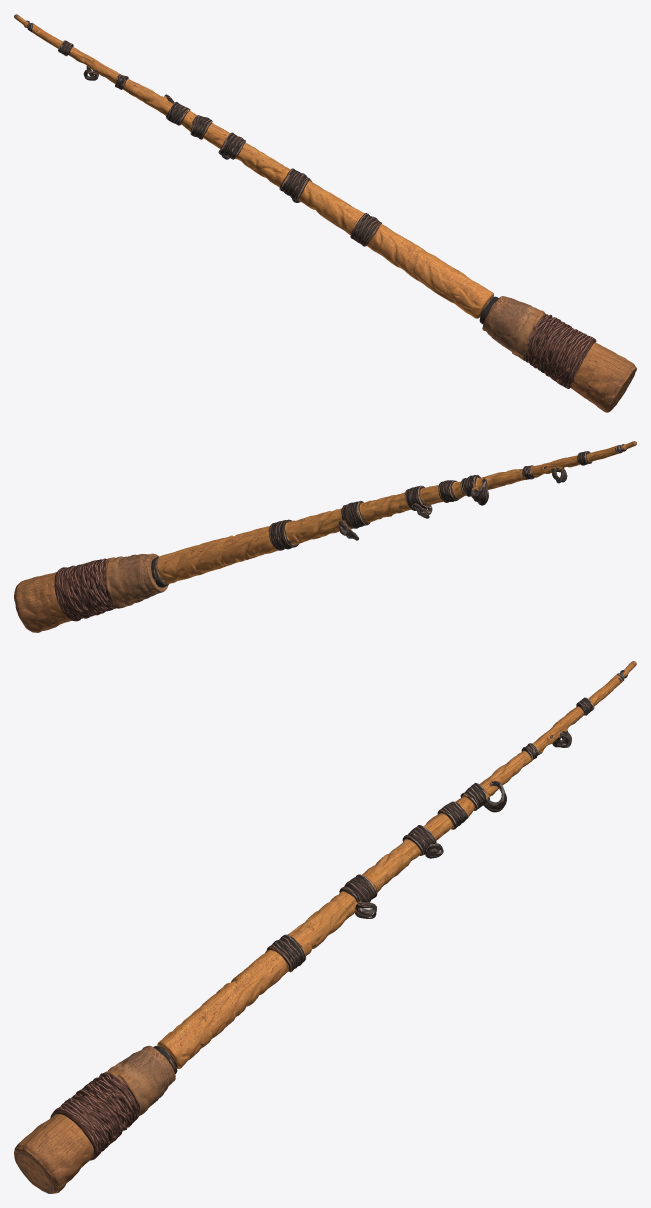
File: fishing-pole-model.glb
3 renders of one model, top to bottom at view 1: azimuth 30°, elevation 25°; view 2: azimuth 210°, elevation 25°; view 3: azimuth 270°, elevation 25°, orthographic. The views are drawn at different scales.
Parts seen in each view (by area): view 1: tripo_node_f8e94005-7d2e-4cf0-a1f3-ca3a4425e270; view 2: tripo_node_f8e94005-7d2e-4cf0-a1f3-ca3a4425e270; view 3: tripo_node_f8e94005-7d2e-4cf0-a1f3-ca3a4425e270.
Boxes of the visible parts, box(x1,y1,x2,y2) form: tripo_node_f8e94005-7d2e-4cf0-a1f3-ca3a4425e270: box(14, 14, 636, 412); tripo_node_f8e94005-7d2e-4cf0-a1f3-ca3a4425e270: box(14, 441, 636, 632); tripo_node_f8e94005-7d2e-4cf0-a1f3-ca3a4425e270: box(14, 661, 636, 1193).
Size of the model in its own units: 0.7906 by 0.5989 by 1.
1 material, 1 textured.
